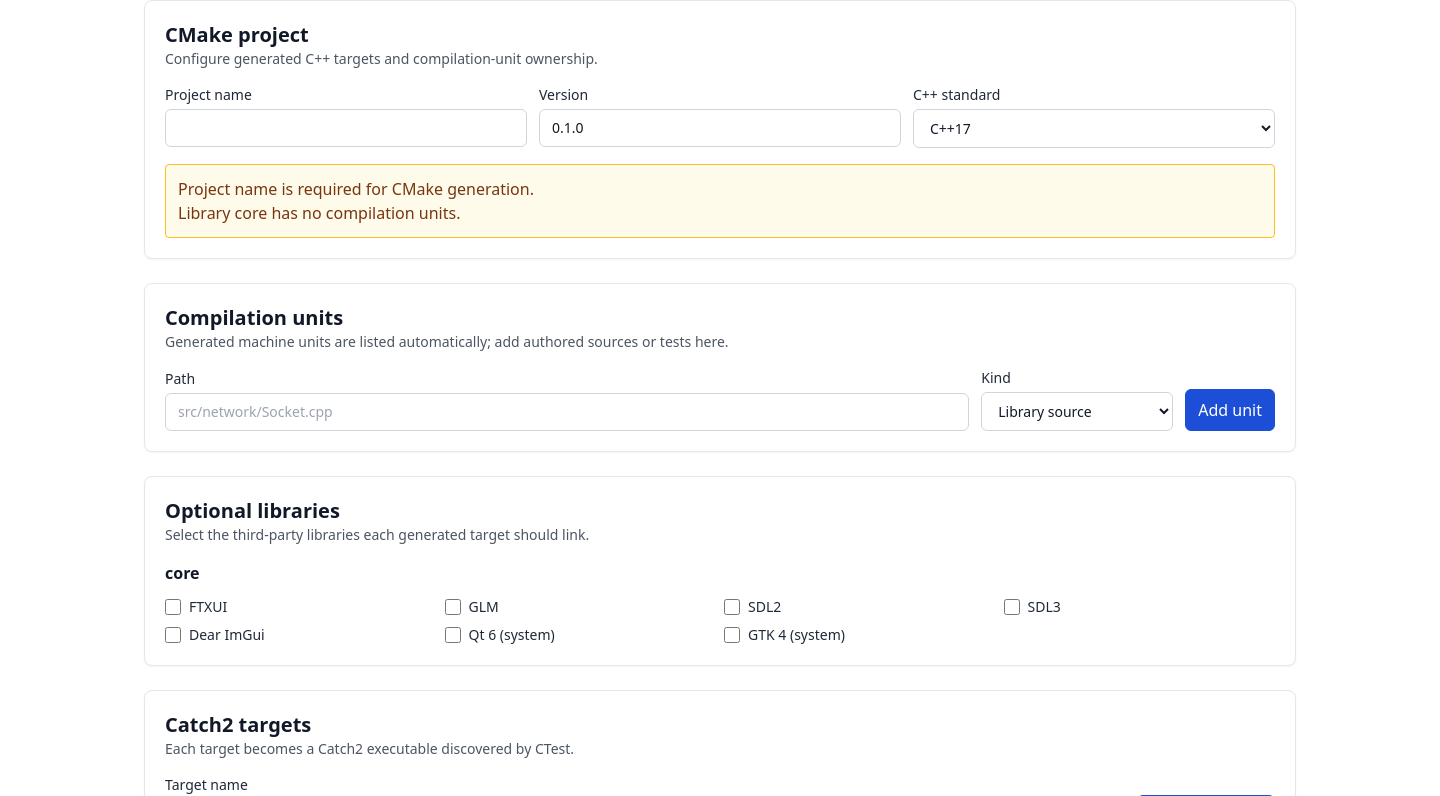
Test: BuildView › disables SDL3 while SDL2 is selected and enables it again when cleared
What coordinates should you click on to do the following:
click the checkbox with id "build-core-dependency-sdl2"
I would click on:
 (732, 607)
Its box is [724,599,740,615].
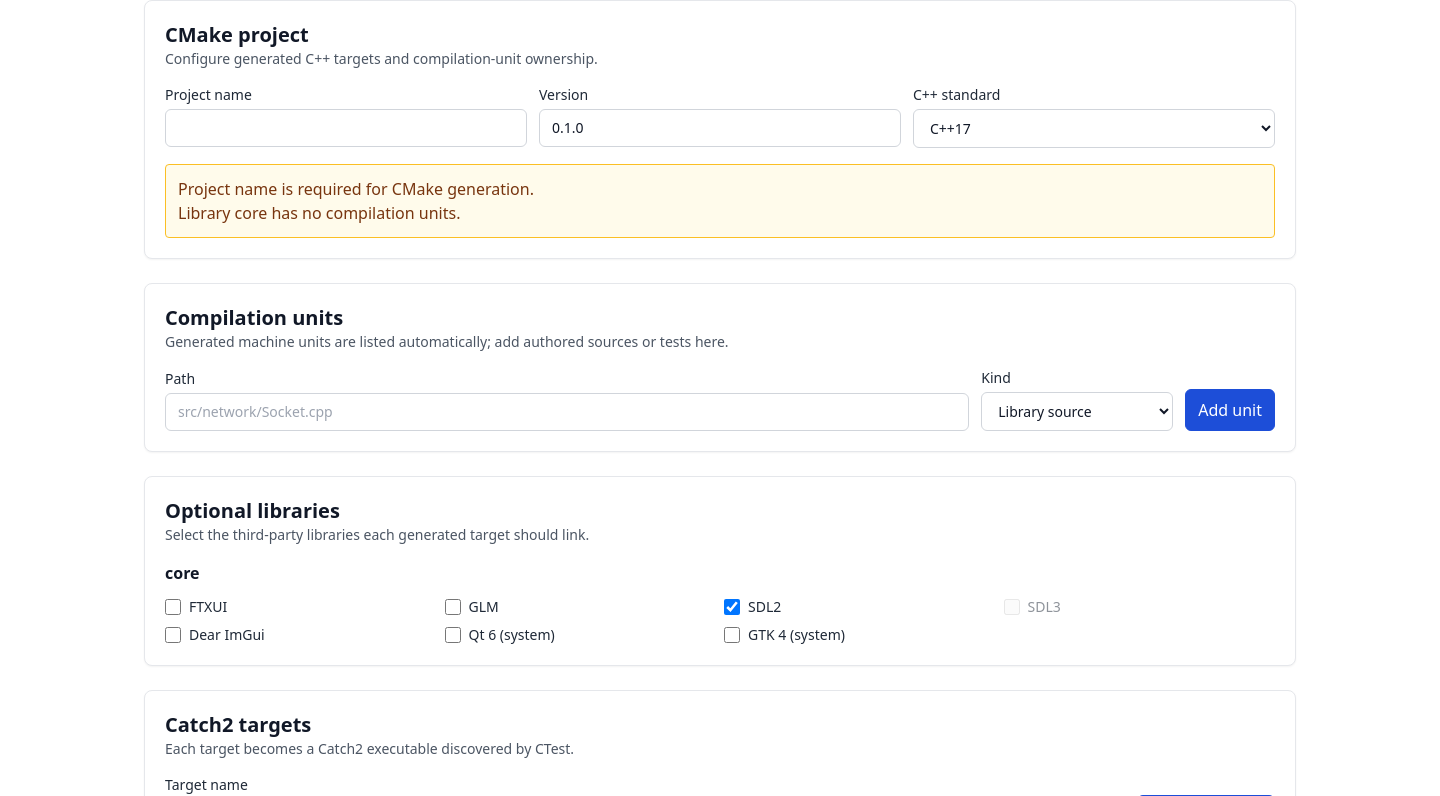
What coordinates should you click on to do the following:
click the checkbox with id "build-core-dependency-sdl2"
I would click on:
 (732, 607)
Its box is [724,599,740,615].
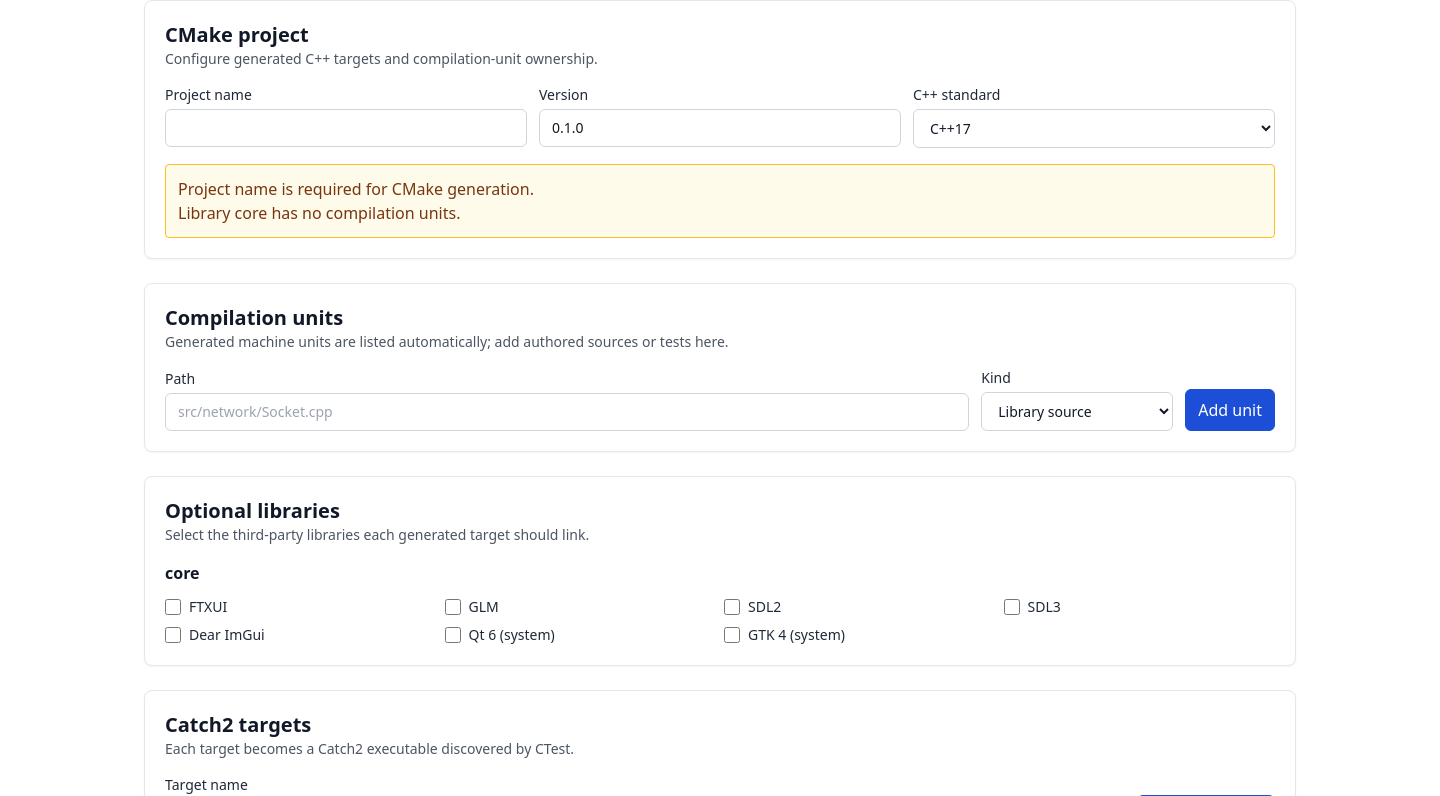
Check: the checkbox with id "build-core-dependency-sdl3" is enabled, box [1004,599,1020,615]
